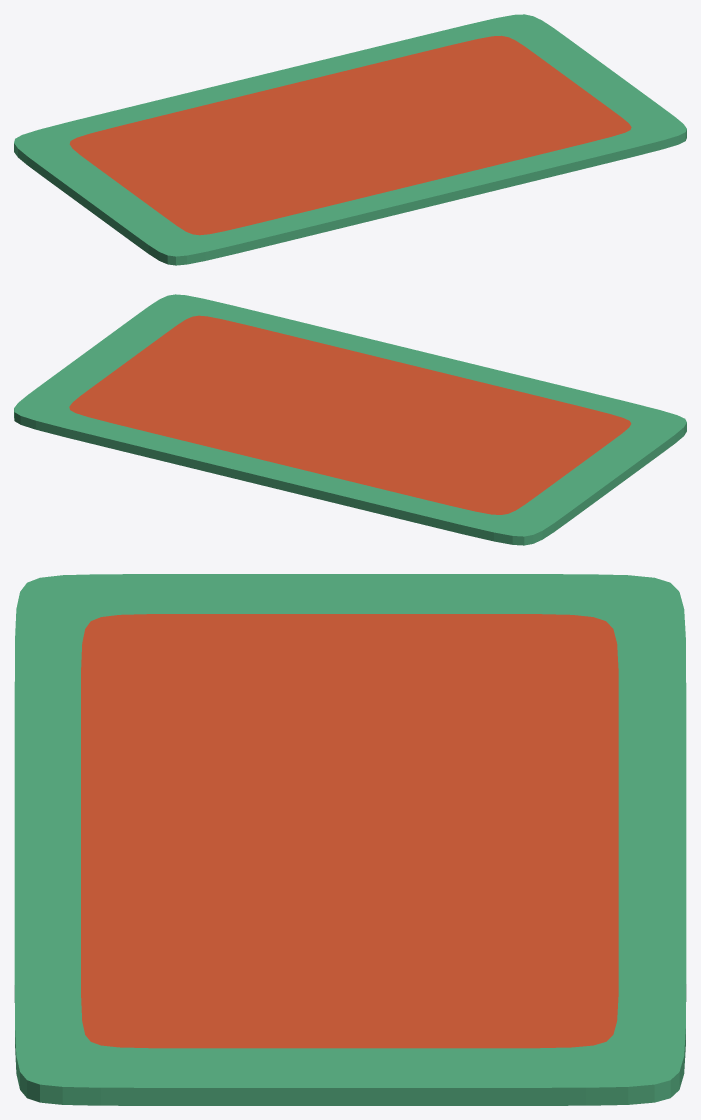
File: italian_carpet_2.fbx
3 renders of one model, top to bottom at view 1: azimuth 30°, elevation 25°; view 2: azimuth 150°, elevation 25°; view 3: azimuth 270°, elevation 25°, orthographic. The views are drawn at different scales.
Visible parts, largest first — view 1: Plane; view 2: Plane; view 3: Plane.
Part boxes in pixels (box(x1,y1,x2,y2)): Plane: box(14, 14, 686, 265); Plane: box(14, 294, 686, 545); Plane: box(14, 574, 686, 1105).
Bounding box in the file's own units: 53.87 × 0.8816 × 29.75.
